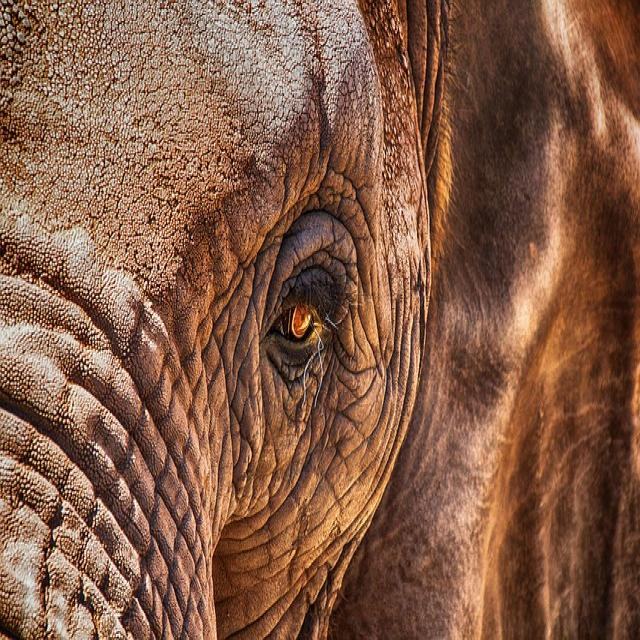elephant: (0, 4, 640, 638)
